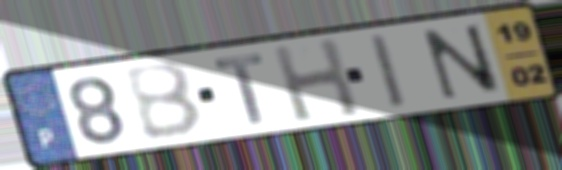8: (66, 75, 129, 145)
B: (119, 59, 208, 143)
H: (267, 35, 365, 125)
I: (366, 31, 412, 112)
N: (418, 22, 507, 102)
T: (210, 51, 267, 127)
